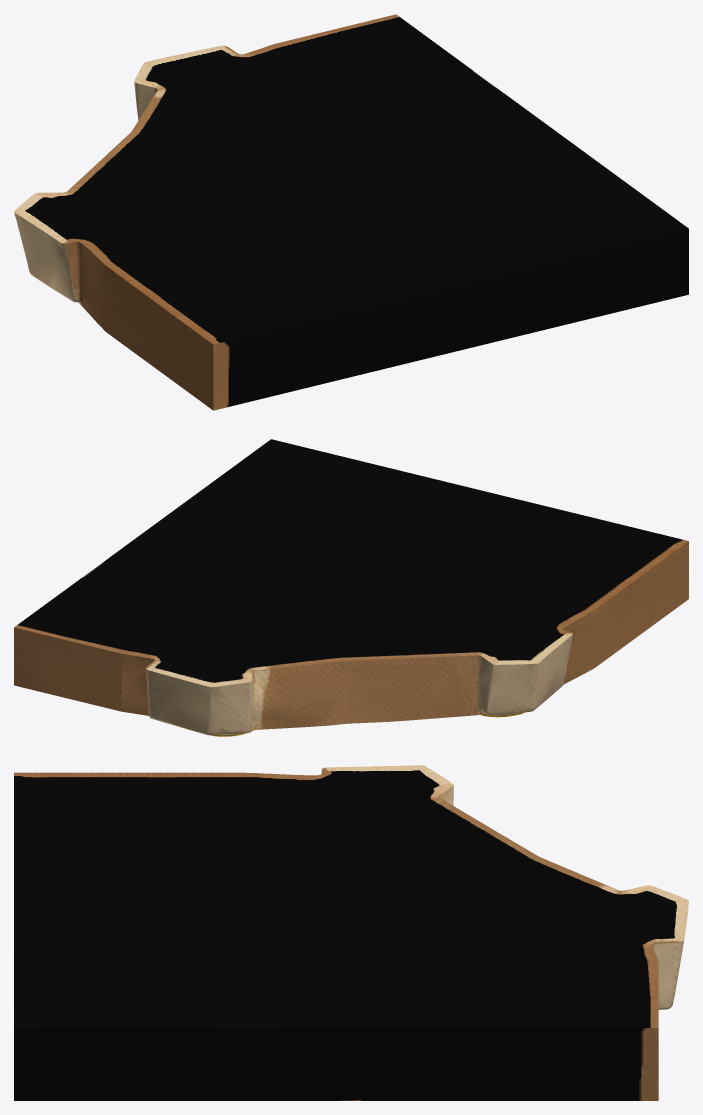
File: 11-roof-back-left.fbx
3 views of the same model, one above another, from view 1: azimuth 30°, elevation 25°; view 2: azimuth 150°, elevation 25°; view 3: azimuth 270°, elevation 25° (orthographic). The views are drawn at different scales.
Visible parts, largest first — view 1: roof-back-left; view 2: roof-back-left; view 3: roof-back-left.
Part boxes in pixels (x1,y1,x2,y2): roof-back-left: (14,14,688,410); roof-back-left: (14,439,688,736); roof-back-left: (14,765,688,1100).
Bounding box in the file's own units: 7393 × 953 × 8019.
Materials: 1 (1 with a texture image).
